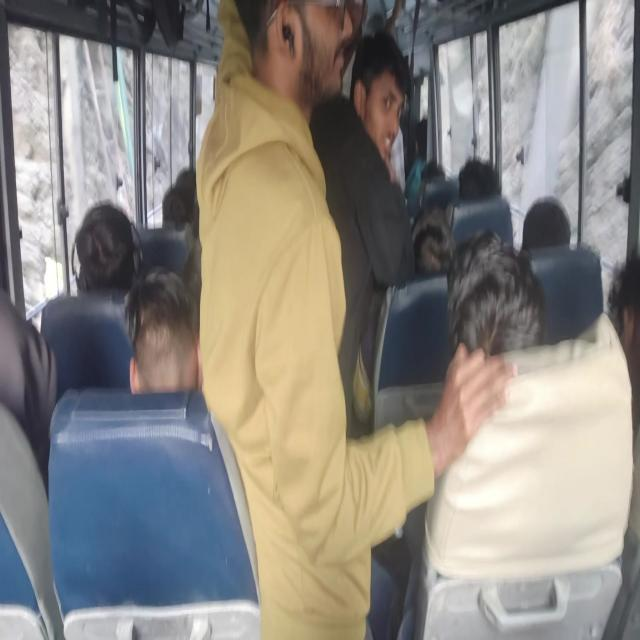person: (454, 246, 572, 382), (0, 326, 52, 542), (123, 264, 224, 374), (519, 192, 611, 279), (244, 0, 310, 110), (362, 64, 426, 163), (600, 272, 640, 413), (76, 225, 144, 281), (148, 188, 203, 257), (409, 218, 447, 279), (332, 0, 360, 70), (406, 147, 446, 187), (178, 155, 215, 196), (473, 154, 502, 204)
